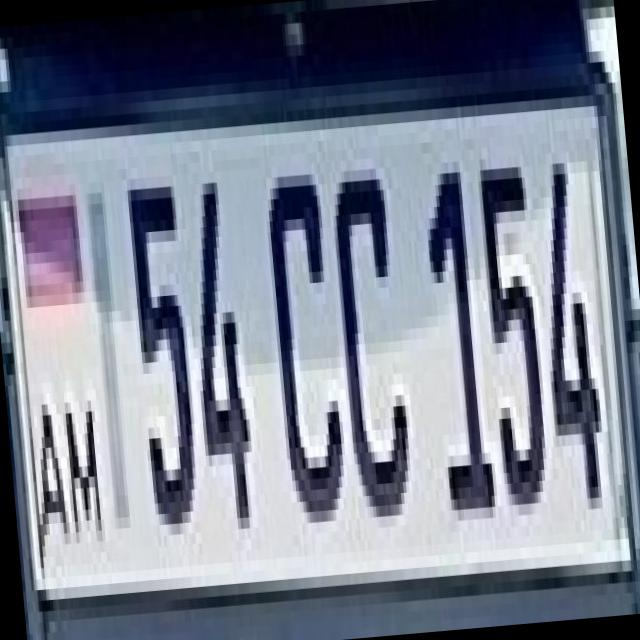1: (391, 117, 490, 524)
4: (174, 148, 258, 520), (526, 129, 607, 501)
5: (110, 153, 205, 526), (463, 134, 546, 496)
C: (247, 130, 351, 526), (318, 146, 418, 519)
M: (52, 389, 104, 533)
